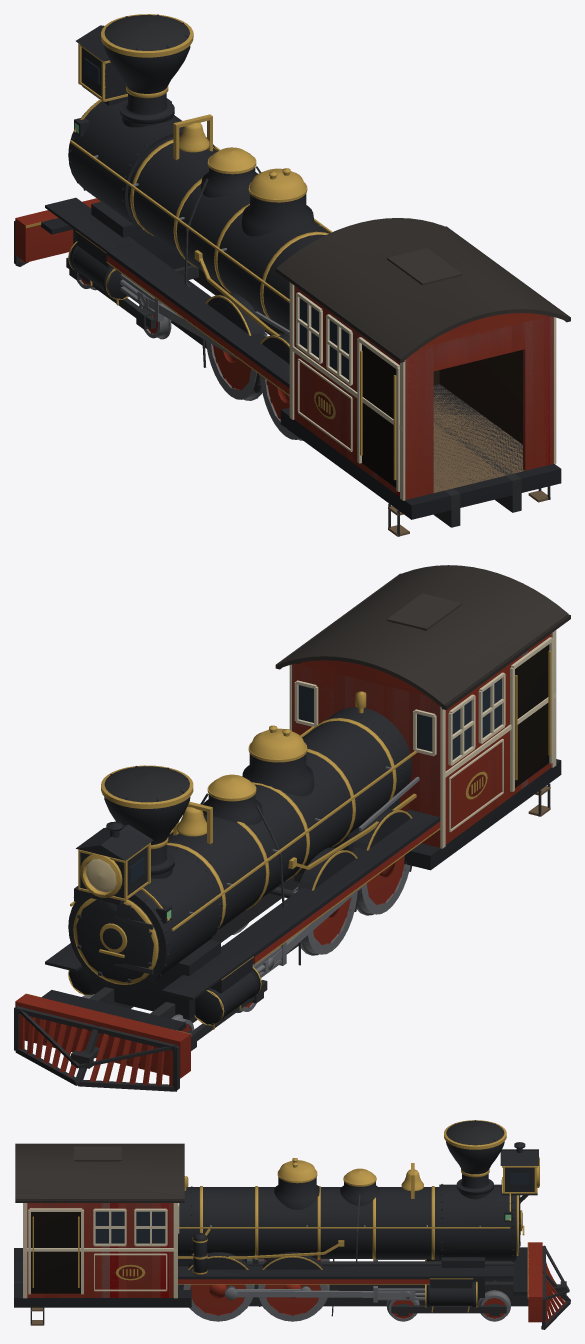
The model's file is engine.glb.
The picture shows the model from 3 angles, top to bottom: view 1: azimuth 30°, elevation 25°; view 2: azimuth 150°, elevation 25°; view 3: azimuth 270°, elevation 25°; orthographic projection. The views are drawn at different scales.
Parts seen in each view (by area): view 1: Body, Far, Driver_1; view 2: Body, Far, Driver_1, Driver_2; view 3: Body, Far, Driver_2, Driver_1, Lead_1.
Part boxes in pixels (x1=…): Body: x1=14, y1=14, x2=570, y2=536; Far: x1=66, y1=14, x2=549, y2=498; Driver_1: x1=205, y1=333, x2=281, y2=400; Body: x1=14, y1=565, x2=570, y2=1091; Far: x1=68, y1=633, x2=551, y2=1050; Driver_1: x1=232, y1=887, x2=357, y2=955; Driver_2: x1=293, y1=856, x2=410, y2=915; Body: x1=14, y1=1120, x2=570, y2=1329; Far: x1=27, y1=1120, x2=539, y2=1321; Driver_2: x1=183, y1=1259, x2=254, y2=1321; Driver_1: x1=258, y1=1259, x2=329, y2=1321; Lead_1: x1=478, y1=1280, x2=510, y2=1321.
Bounding box in the file's own units: 5.58 × 8.25 × 23.18.
